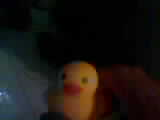duck: (45, 53, 117, 118)
